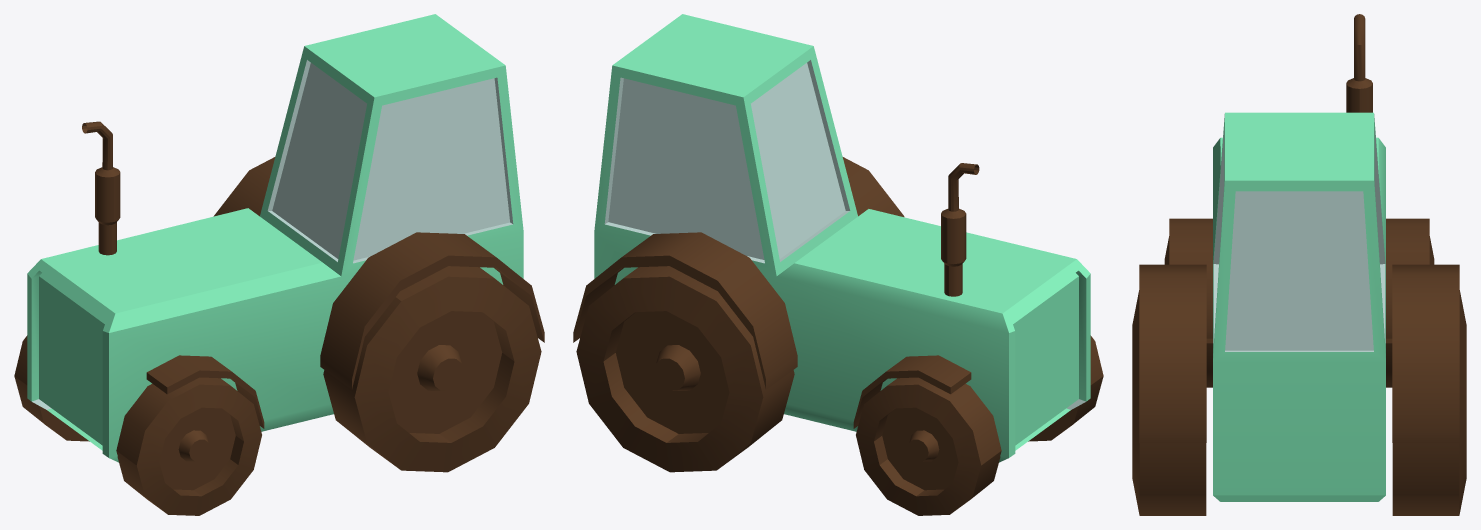
Rendered from traktor.fbx.
3 views of the same model, side by side, from view 1: azimuth 30°, elevation 25°; view 2: azimuth 150°, elevation 25°; view 3: azimuth 270°, elevation 25° (orthographic). The views are drawn at different scales.
Visible parts, largest first — view 1: Cube.002, Cylinder, Cube.001, Cube, Circle; view 2: Cube.002, Cylinder, Cube.001, Circle, Cube; view 3: Cube.002, Cylinder, Cube.001, Cube, Circle.
Part boxes in pixels (x1,y1,x2,y2): Cube.002: (27, 14, 523, 462); Cylinder: (14, 157, 544, 515); Cube.001: (272, 63, 509, 260); Cube: (32, 60, 513, 409); Circle: (82, 121, 120, 255); Cube.002: (594, 14, 1090, 462); Cylinder: (573, 157, 1103, 515); Cube.001: (608, 63, 845, 259); Circle: (941, 163, 979, 296); Cube: (604, 60, 1085, 409); Cube.002: (1213, 112, 1385, 501); Cylinder: (1132, 218, 1466, 515); Cube.001: (1225, 191, 1373, 350); Cube: (1213, 127, 1385, 351); Circle: (1346, 14, 1372, 112).
Size of the model in its own units: 589 by 478 by 386.
